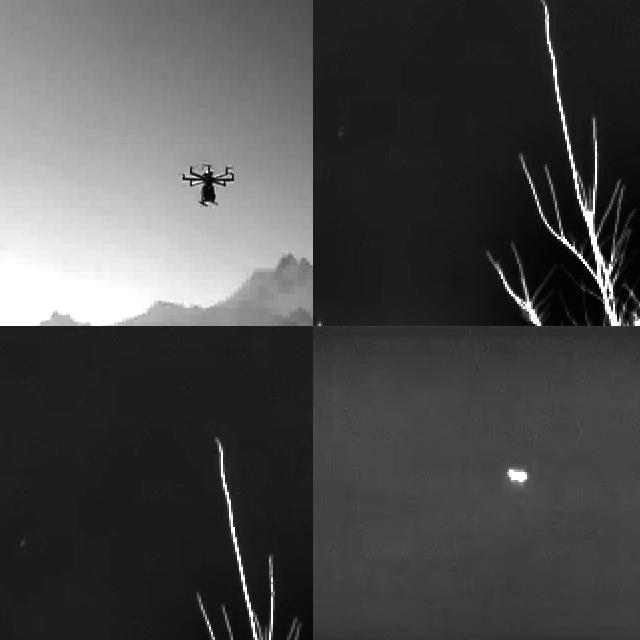0: (11, 530, 33, 562), (327, 122, 349, 152)
1: (482, 458, 550, 501)
drone: (179, 162, 234, 207)
